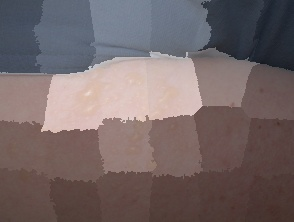SJS-TEN: (39, 38, 221, 215)
